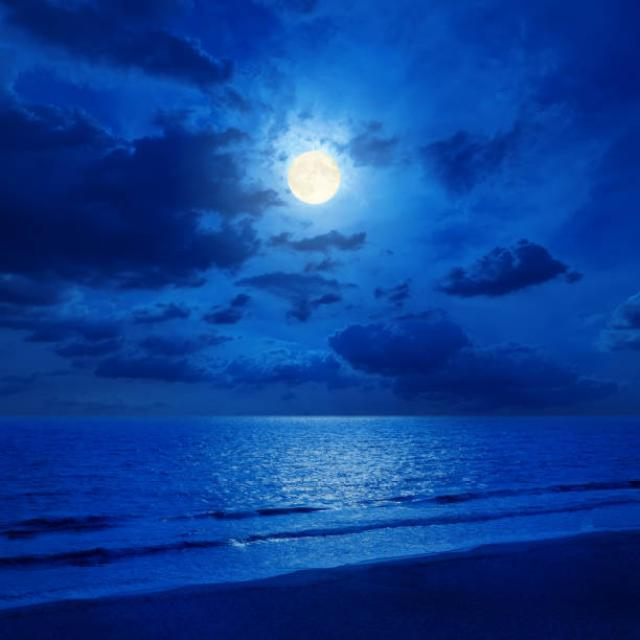moon: (268, 144, 346, 204)
